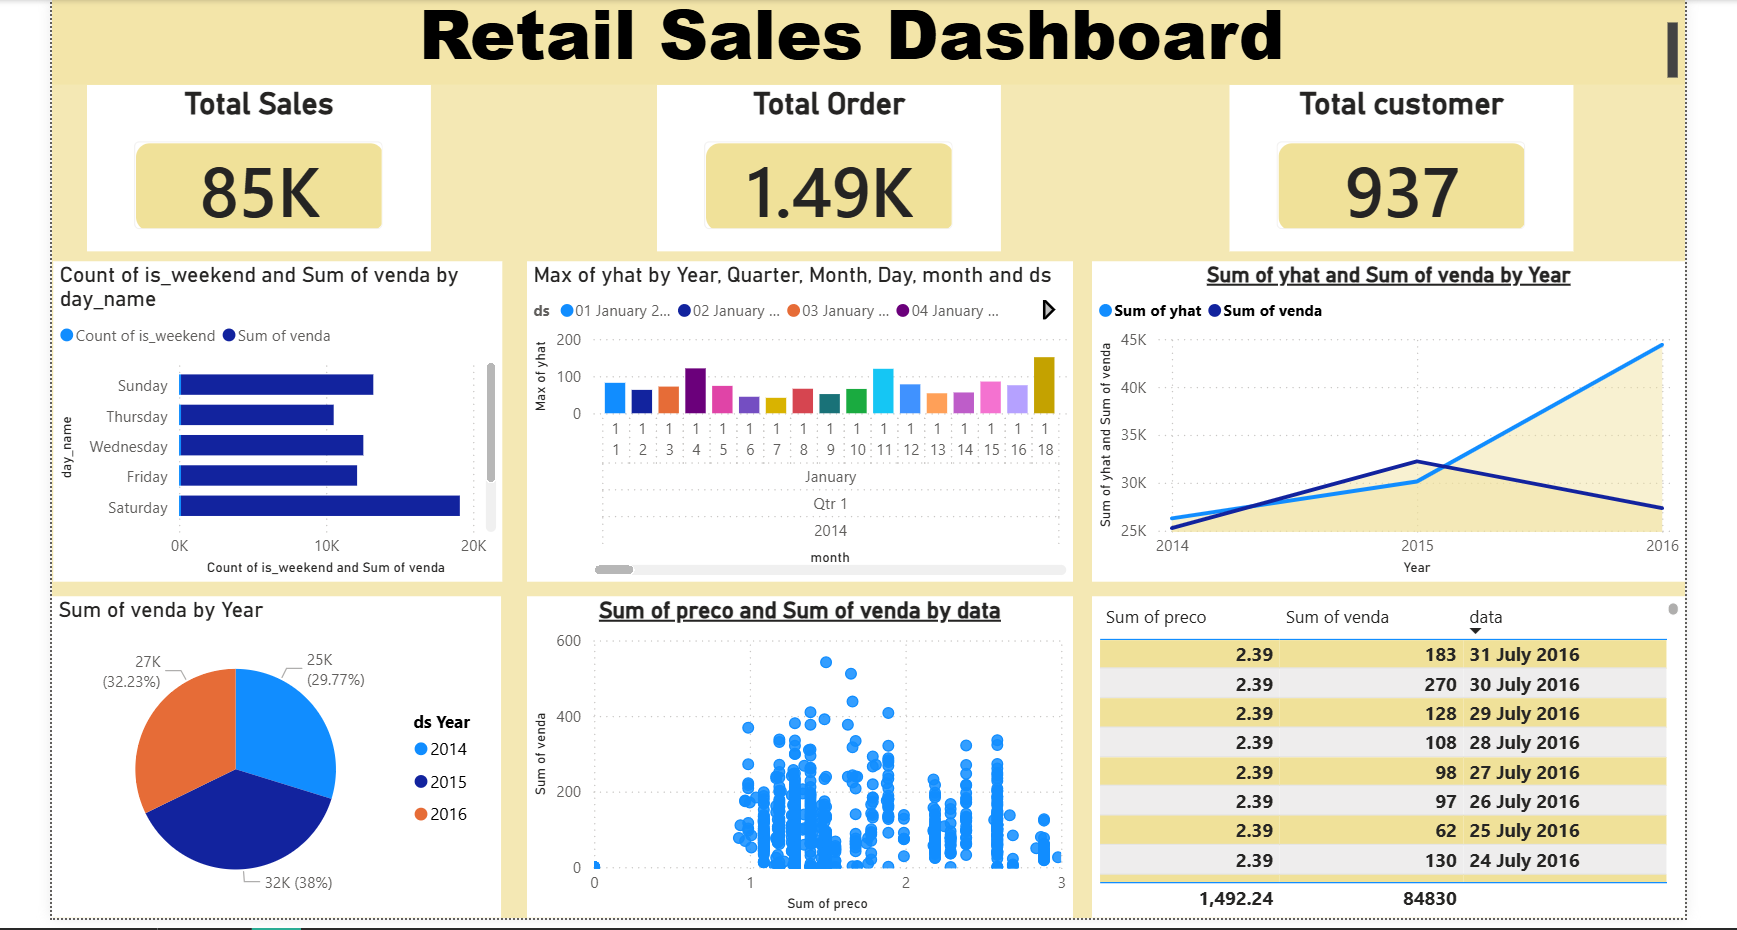

The dashboard page shown, as its layout file describes it:
{"tool":"powerbi","page":{"name":"Page 1","canvas":[1280,720],"ordinal":0},"visuals":[{"type":"areaChart","fields":{"Category":["forecast_results.ds.Variation.Date Hierarchy.Year","forecast_results.ds.Variation.Date Hierarchy.Quarter","forecast_results.ds.Variation.Date Hierarchy.Month","forecast_results.ds.Variation.Date Hierarchy.Day"],"Y":["Sum(forecast_results.yhat)","Sum(cleaned_sales_data.venda)"]},"box":[815.1,204.7,465.1,251.2],"z":0},{"type":"scatterChart","fields":{"Category":["cleaned_sales_data.data"],"X":["Sum(cleaned_sales_data.preco)"],"Y":["Sum(cleaned_sales_data.venda)"]},"box":[372.1,467.4,427.9,252.3],"z":1000},{"type":"tableEx","fields":{"Values":["Sum(cleaned_sales_data.preco)","Sum(cleaned_sales_data.venda)","cleaned_sales_data.data"]},"box":[815.1,467.4,465.1,252.3],"z":1001},{"type":"textbox","box":[0,0,1279.7,66.6],"z":1002},{"type":"pieChart","fields":{"Category":["forecast_results.ds.Variation.Date Hierarchy.Year","forecast_results.ds.Variation.Date Hierarchy.Quarter","forecast_results.ds.Variation.Date Hierarchy.Month","forecast_results.ds.Variation.Date Hierarchy.Day"],"Y":["Sum(cleaned_sales_data.venda)"]},"box":[0,467.4,352.3,252.3],"z":1003},{"type":"barChart","fields":{"Category":["cleaned_sales_data.day_name","forecast_results.yhat"],"Y":["CountNonNull(cleaned_sales_data.is_weekend)","Sum(cleaned_sales_data.venda)"]},"box":[1.2,204.7,352.3,251.2],"z":1004},{"type":"lineStackedColumnComboChart","fields":{"Category":["forecast_results.ds.Variation.Date Hierarchy.Year","forecast_results.ds.Variation.Date Hierarchy.Quarter","forecast_results.ds.Variation.Date Hierarchy.Month","forecast_results.ds.Variation.Date Hierarchy.Day","cleaned_sales_data.month"],"Series":["forecast_results.ds"],"Y":["Max(forecast_results.yhat)"]},"box":[372.1,204.7,427.9,251.2],"z":1005},{"type":"cardVisual","title":"Total Sales","fields":{"Data":["Sum(cleaned_sales_data.venda)"]},"box":[27.9,66.3,269.8,130.2],"z":1006},{"type":"cardVisual","title":"Total customer","fields":{"Data":["CountNonNull(cleaned_sales_data.stock_out)"]},"box":[923.3,66.3,269.8,130.2],"z":1008},{"type":"cardVisual","title":"Total Order","fields":{"Data":["Sum(cleaned_sales_data.preco)"]},"box":[474.4,66.3,269.8,130.2],"z":1009}]}

Visuals, with their boxes on the page's 1280x720 design canvas (x1, y1, x2, y2). These are canvas units, not pixel positions in the 1737x930 screenshot, which may show the page scaled, cropped or inside an application window:
areaChart - forecast_results.ds.Variation.Date Hierarchy.Year x forecast_results.ds.Variation.Date Hierarchy.Quarter: BBox(815, 205, 1280, 456)
scatterChart - cleaned_sales_data.data x Sum(cleaned_sales_data.preco): BBox(372, 467, 800, 720)
tableEx - Sum(cleaned_sales_data.preco) x Sum(cleaned_sales_data.venda): BBox(815, 467, 1280, 720)
textbox: BBox(0, 0, 1280, 67)
pieChart - forecast_results.ds.Variation.Date Hierarchy.Year x forecast_results.ds.Variation.Date Hierarchy.Quarter: BBox(0, 467, 352, 720)
barChart - cleaned_sales_data.day_name x forecast_results.yhat: BBox(1, 205, 354, 456)
lineStackedColumnComboChart - forecast_results.ds.Variation.Date Hierarchy.Year x forecast_results.ds.Variation.Date Hierarchy.Quarter: BBox(372, 205, 800, 456)
"Total Sales" cardVisual: BBox(28, 66, 298, 196)
"Total customer" cardVisual: BBox(923, 66, 1193, 196)
"Total Order" cardVisual: BBox(474, 66, 744, 196)
